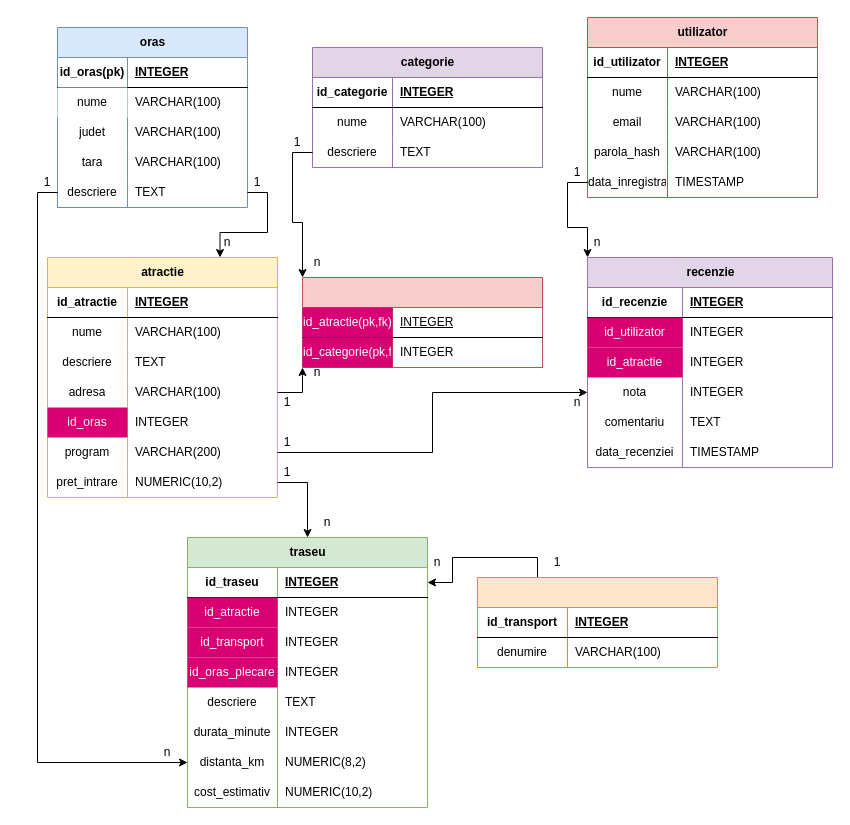
This 850x825 diagram has some shape labels left out. The shapes that lost their labels are listed below. From the top down, each one's box as (x1, y1, x2, y2) in pixels, then its label:
(302, 276, 542, 368): atractie_categorie
(476, 576, 718, 668): mijloc_transport
